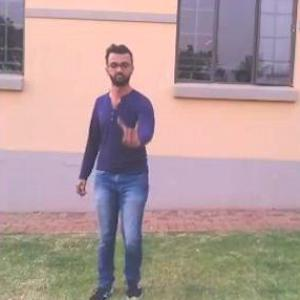takeoff-hand: (112, 110, 148, 152)
